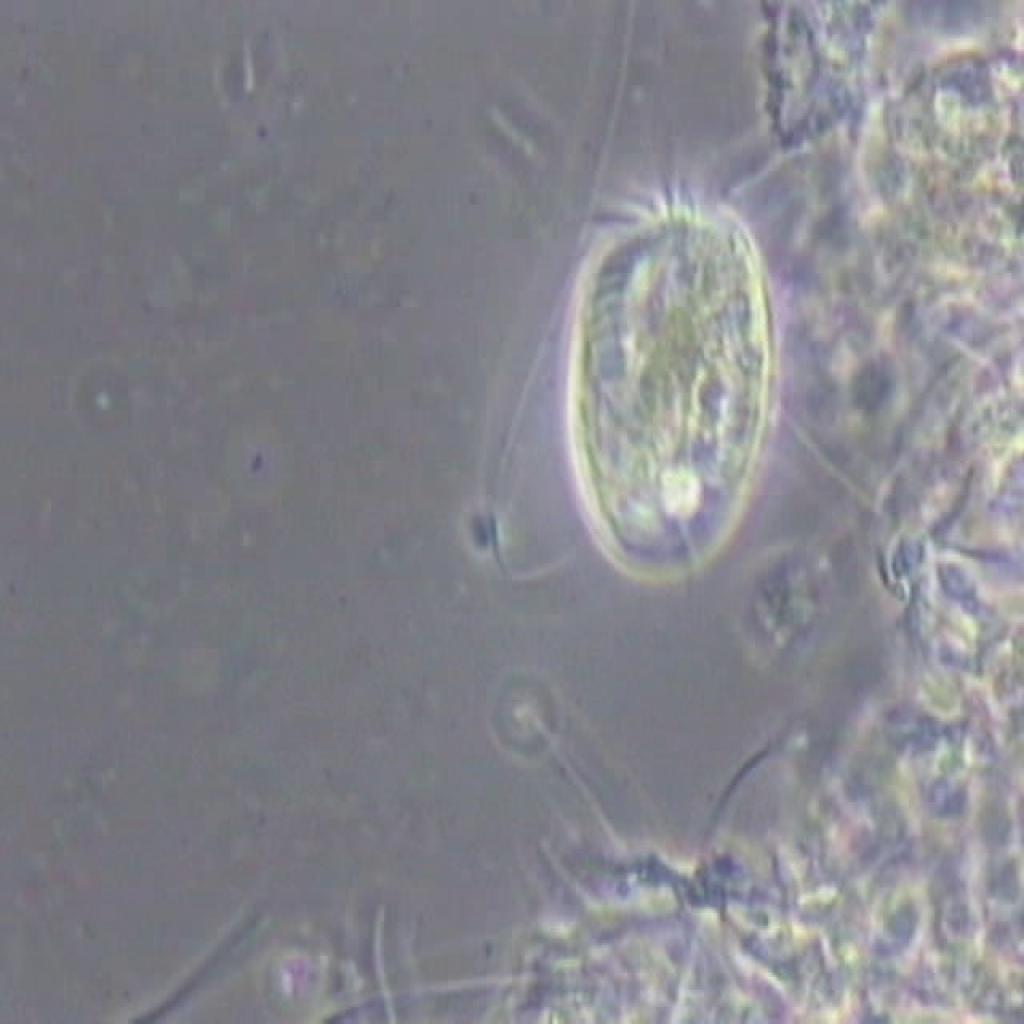Euplotes: (559, 144, 777, 615)
